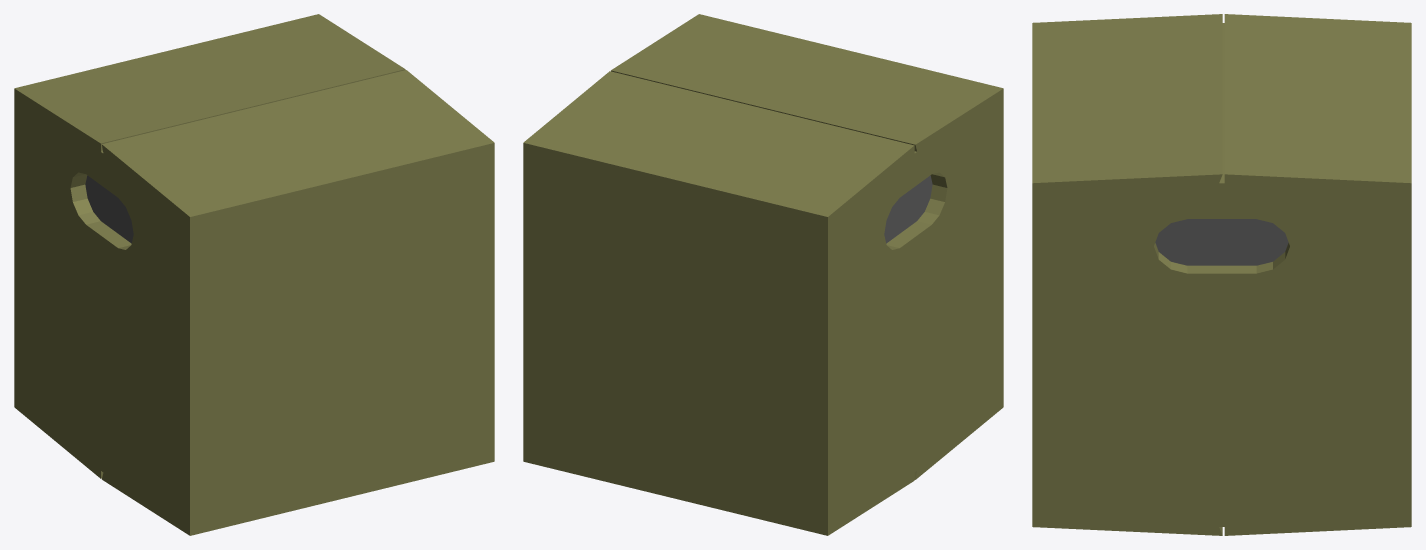
3 renders of one model, left to right at view 1: azimuth 30°, elevation 25°; view 2: azimuth 150°, elevation 25°; view 3: azimuth 270°, elevation 25°, orthographic. The views are drawn at different scales.
Visible parts, largest first — view 1: Box; view 2: Box; view 3: Box.
Boxes of the visible parts, x1,y1,x2,y2 form: Box: (14,14,494,535); Box: (523,14,1003,535); Box: (1032,14,1411,535).
Bounding box in the file's own units: 200 × 210 × 200.
